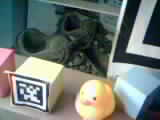duck: (72, 72, 118, 111)
